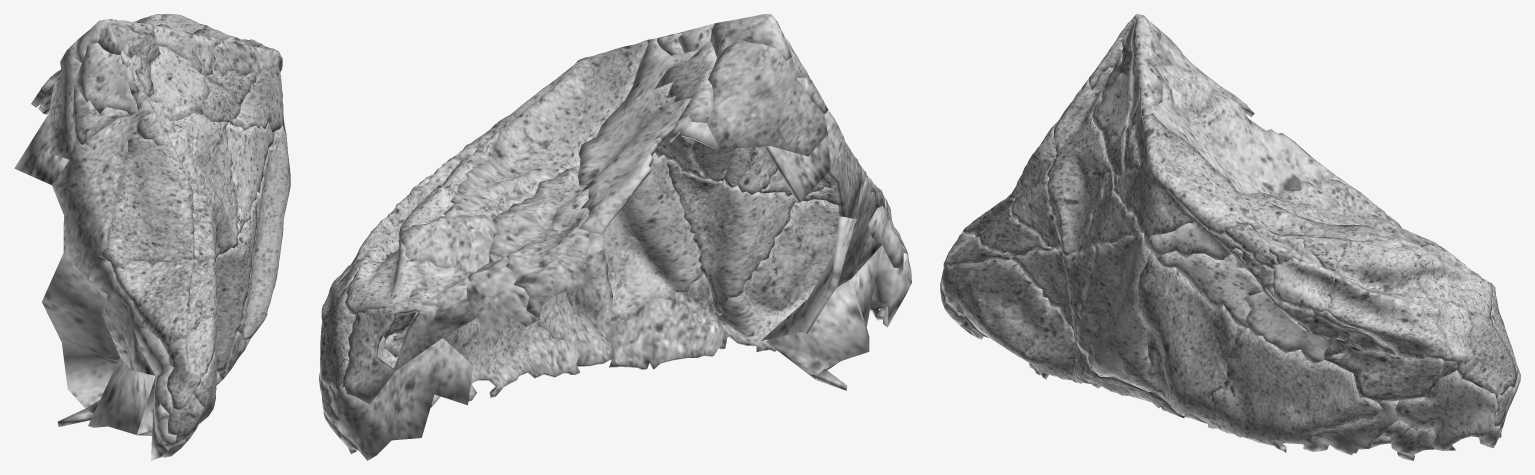
The model's file is Motor04.glb.
The picture shows the model from 3 angles, left to right: view 1: azimuth 30°, elevation 25°; view 2: azimuth 150°, elevation 25°; view 3: azimuth 270°, elevation 25°; orthographic projection. The views are drawn at different scales.
Parts seen in each view (by area): view 1: Mesh_0; view 2: Mesh_0; view 3: Mesh_0.
Boxes of the visible parts, x1,y1,x2,y2 form: Mesh_0: [14, 14, 290, 460]; Mesh_0: [319, 14, 911, 460]; Mesh_0: [940, 14, 1520, 460].
Bounding box in the file's own units: 0.6296 × 0.6686 × 0.9927.
1 material, 1 textured.
